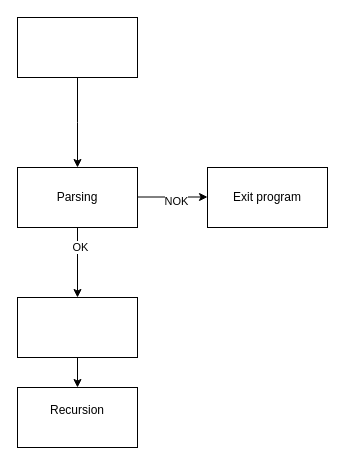
Some shapes in this 345 by 465 pixel diagram are drawn without their labels. Here are the shapes that lost their labels. From the top down, the centre of each, then its label:
At point 77,47: "Inputs".
At point 77,327: "Algo".
